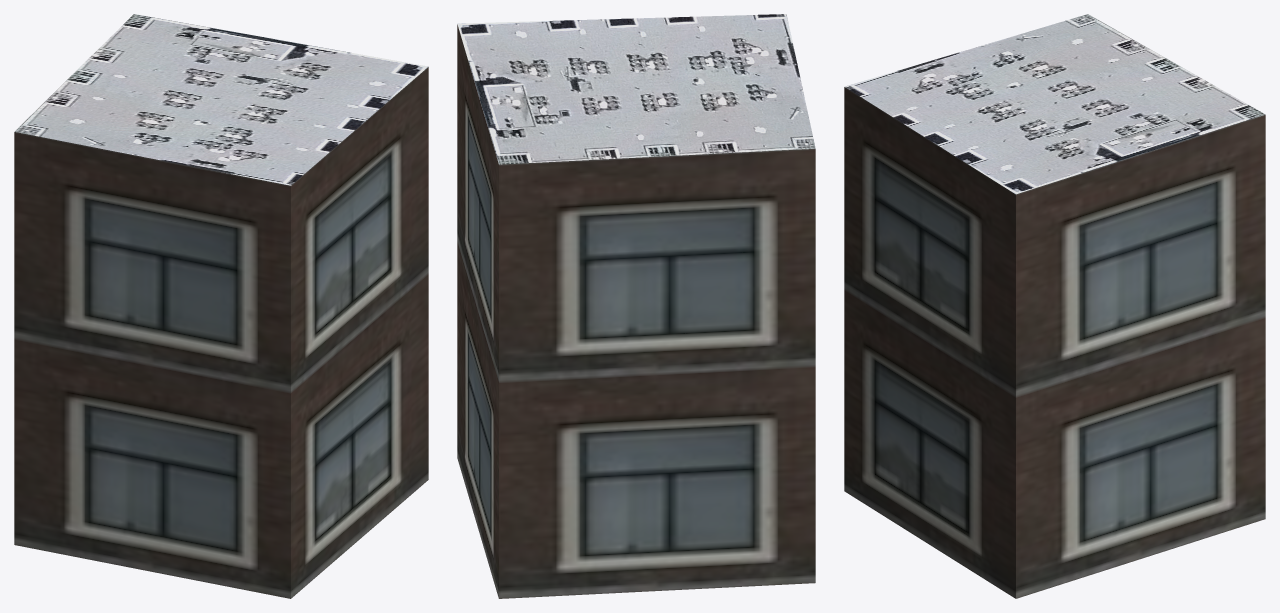
The model's file is ResTex__2373.fbx.
3 renders of one model, left to right at view 1: azimuth 30°, elevation 25°; view 2: azimuth 150°, elevation 25°; view 3: azimuth 270°, elevation 25°, orthographic. The views are drawn at different scales.
Visible parts, largest first — view 1: CityEngineMaterial_16_m, CityEngineMaterial_15_m; view 2: CityEngineMaterial_16_m, CityEngineMaterial_15_m; view 3: CityEngineMaterial_16_m, CityEngineMaterial_15_m.
Part boxes in pixels (x1,y1,x2,y2): CityEngineMaterial_16_m: (14,67,428,598); CityEngineMaterial_15_m: (14,14,428,185); CityEngineMaterial_16_m: (457,24,815,598); CityEngineMaterial_15_m: (457,14,815,164); CityEngineMaterial_16_m: (844,87,1265,598); CityEngineMaterial_15_m: (844,14,1265,194).
Size of the model in its own units: 5.74 by 6 by 5.67.
2 materials, 2 textured.
